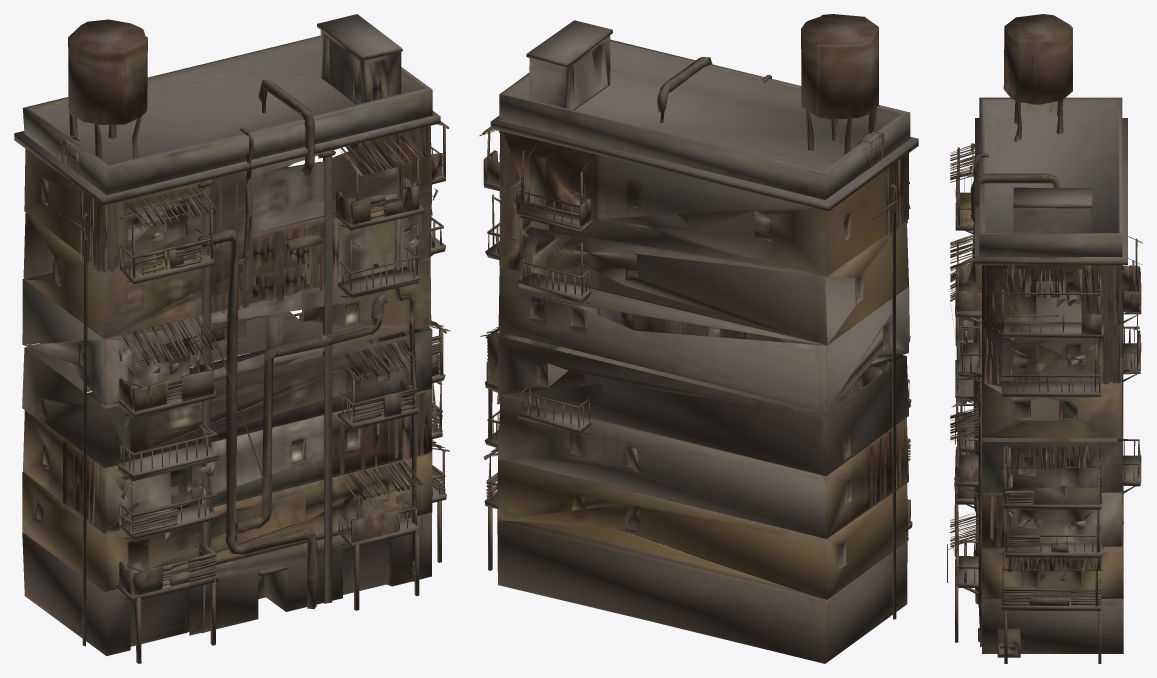
The model's file is tenement2.glb.
The picture shows the model from 3 angles, left to right: view 1: azimuth 30°, elevation 25°; view 2: azimuth 150°, elevation 25°; view 3: azimuth 270°, elevation 25°; orthographic projection. The views are drawn at different scales.
Size of the model in its own units: 0.6191 by 0.9536 by 0.3354.
Materials: 1 (1 with a texture image).
